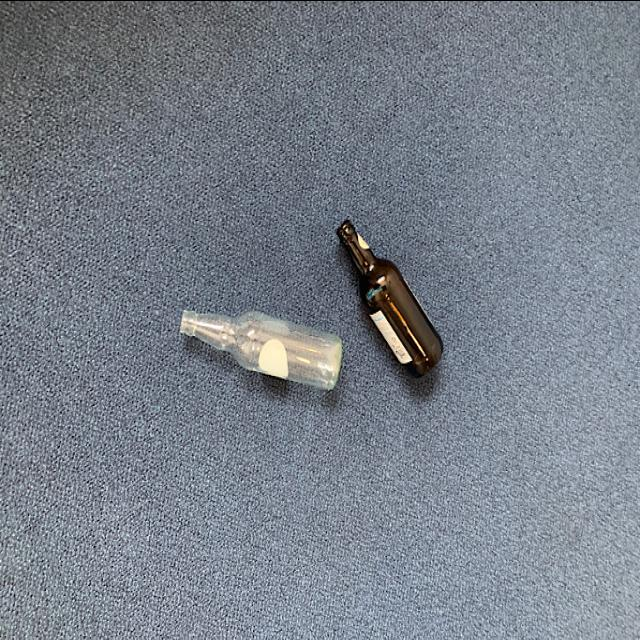litter: (332, 212, 448, 384), (178, 296, 346, 398)
